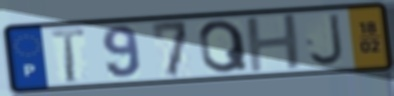7: (149, 18, 190, 80)
9: (100, 23, 144, 82)
H: (243, 11, 305, 75)
J: (306, 11, 347, 68)
Q: (196, 18, 251, 75)
T: (48, 26, 88, 85)
